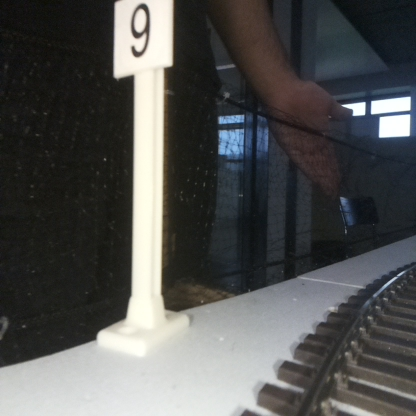white-info-9: (114, 0, 173, 345)
